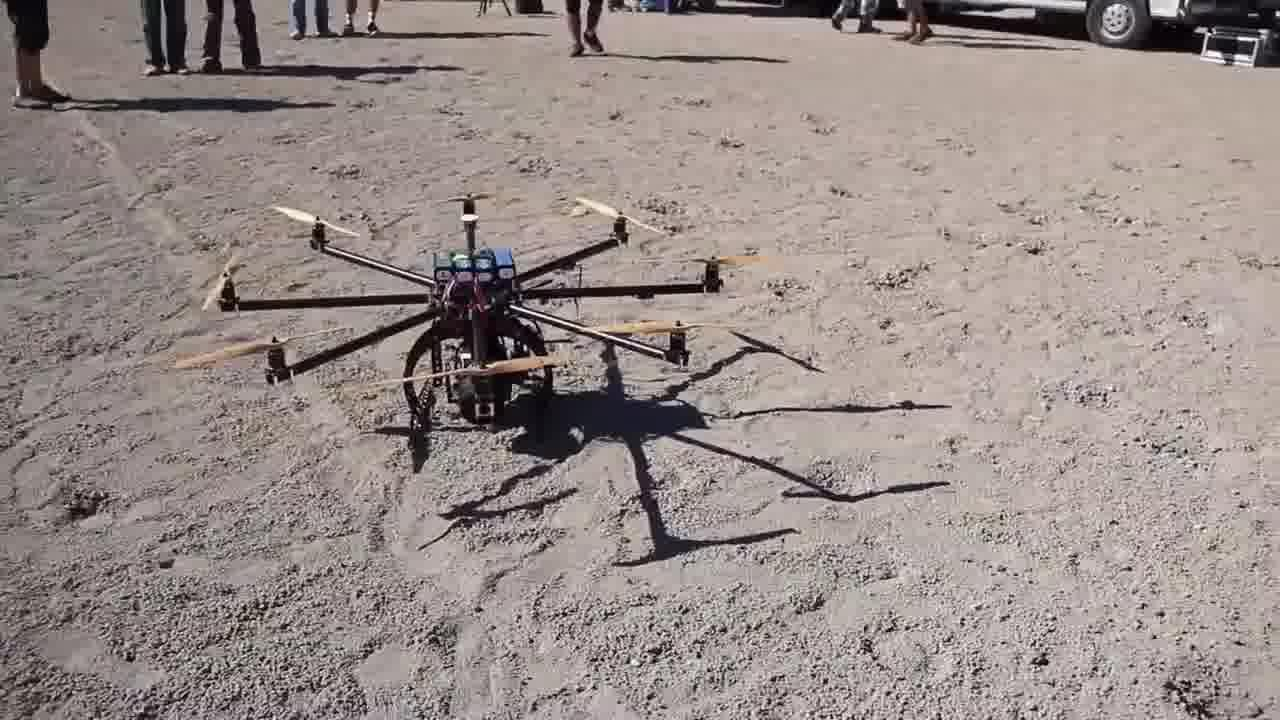drone: (194, 185, 759, 445)
